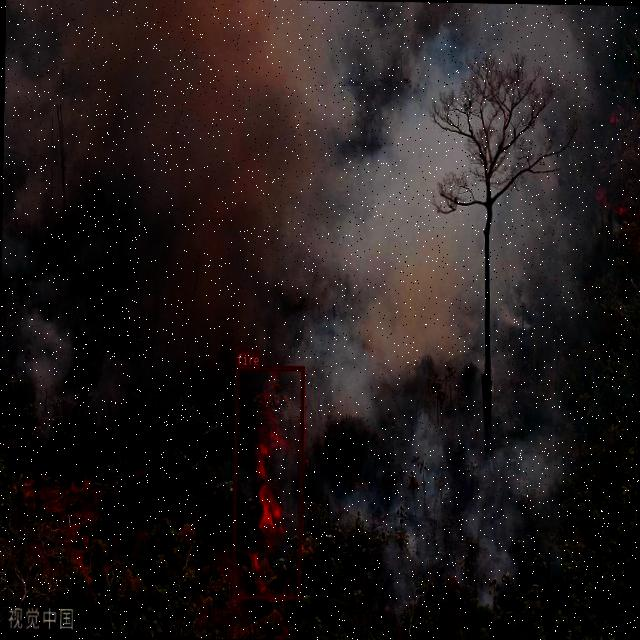fire: (230, 364, 304, 598)
